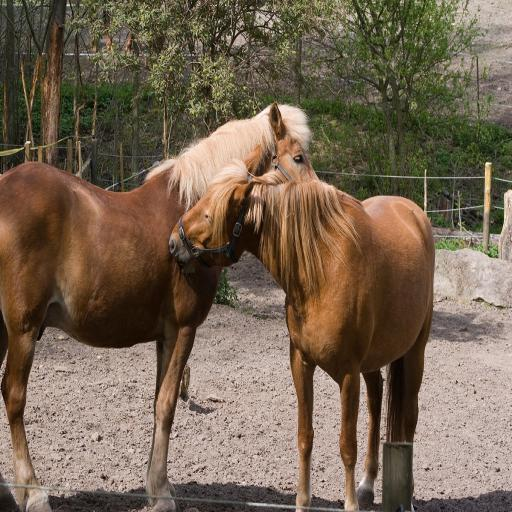horse: (0, 98, 312, 511), (168, 157, 435, 512)
